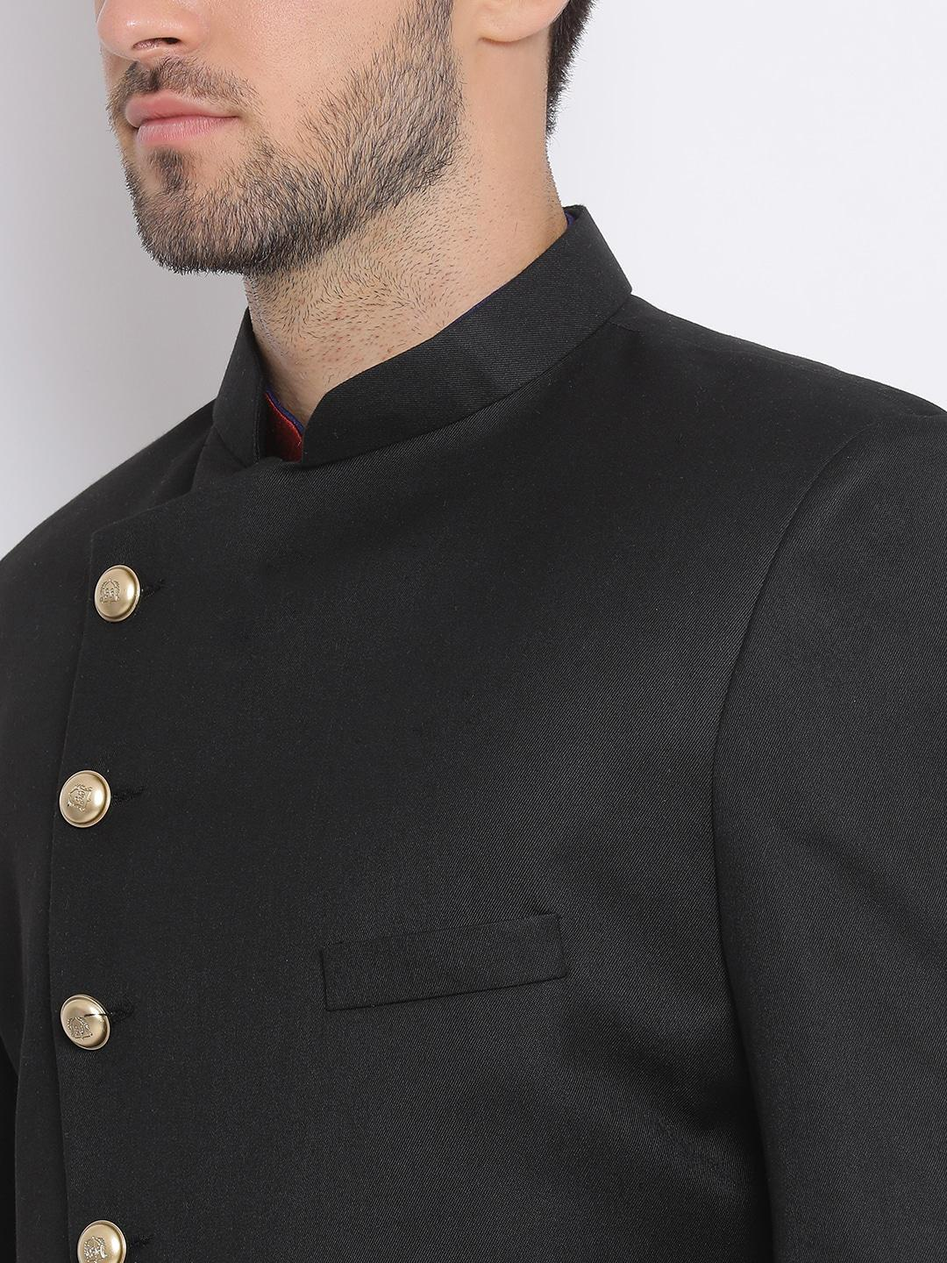Plain sherwani: (4, 202, 943, 1254)
